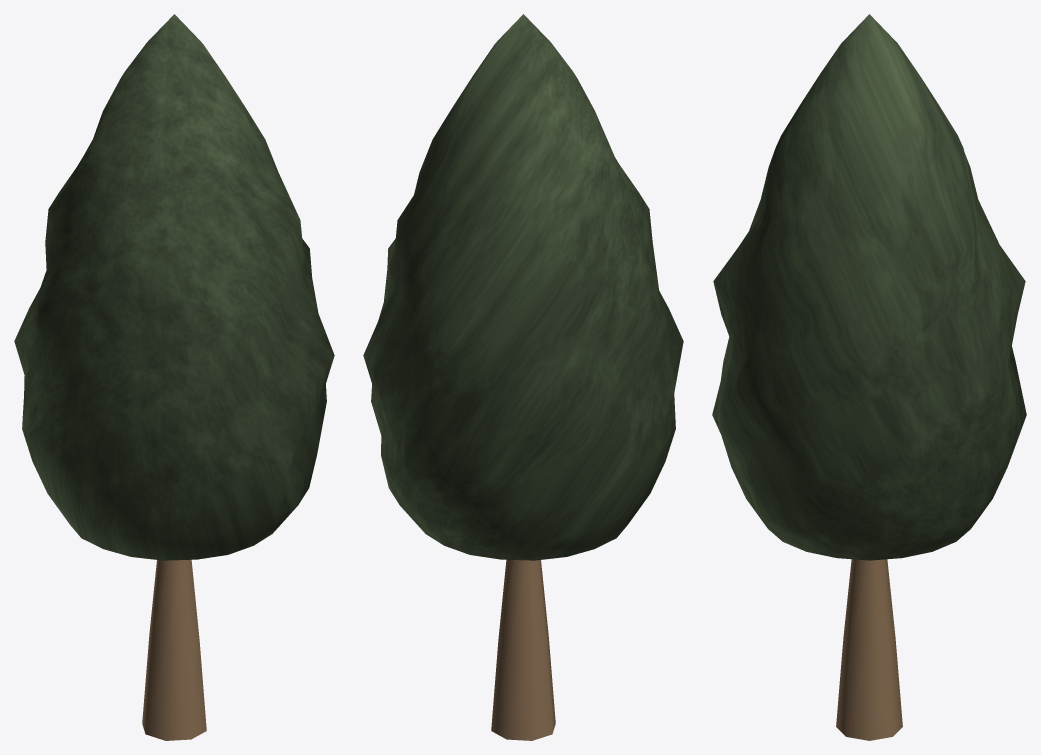
The model's file is tree.fbx.
3 views of the same model, side by side, from view 1: azimuth 30°, elevation 25°; view 2: azimuth 150°, elevation 25°; view 3: azimuth 270°, elevation 25° (orthographic).
Visible parts, largest first — view 1: tree; view 2: tree; view 3: tree.
Boxes of the visible parts, x1,y1,x2,y2 form: tree: (14,14,334,740); tree: (363,14,683,740); tree: (712,14,1026,740).
Size of the model in its own units: 3.2 by 8 by 3.2.
